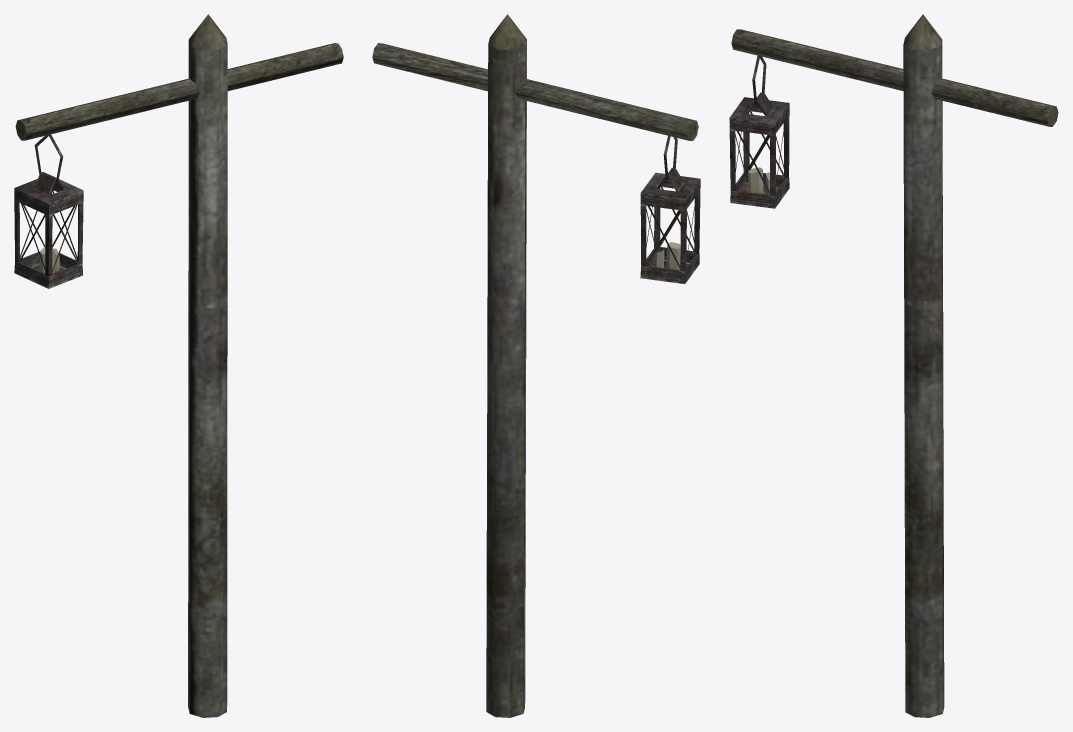
File: d_sg_shouyou_zhuzi01_qt.FBX
The picture shows the model from 3 angles, left to right: view 1: azimuth 30°, elevation 25°; view 2: azimuth 150°, elevation 25°; view 3: azimuth 330°, elevation 25°; orthographic projection.
Parts seen in each view (by area): view 1: d_sg_shouyou_zhuzi01_qt; view 2: d_sg_shouyou_zhuzi01_qt; view 3: d_sg_shouyou_zhuzi01_qt.
Part boxes in pixels (left/top/right/bottom): d_sg_shouyou_zhuzi01_qt: left=14, top=14, right=343, bottom=717; d_sg_shouyou_zhuzi01_qt: left=372, top=14, right=700, bottom=717; d_sg_shouyou_zhuzi01_qt: left=729, top=14, right=1058, bottom=717.
Bounding box in the file's own units: 2.64 × 5.54 × 0.4362.
